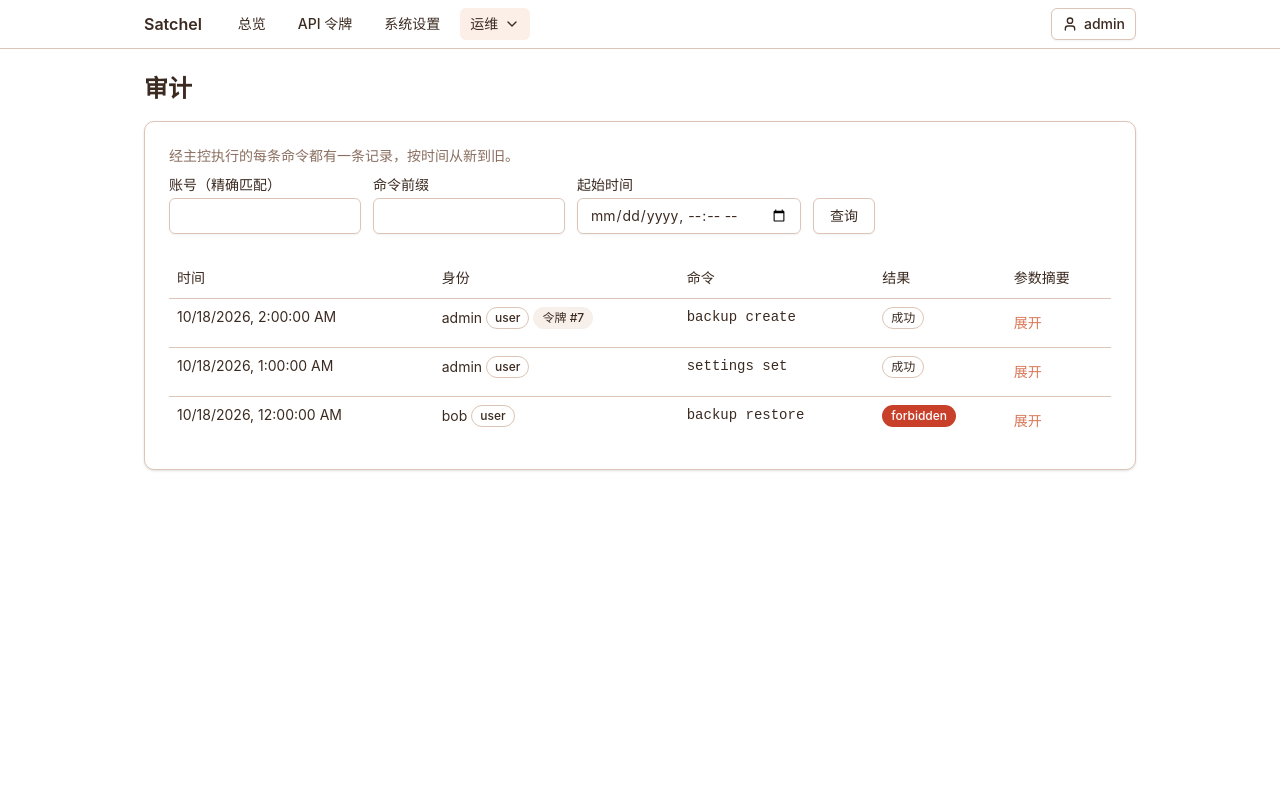
Test case: 审计页 › 参数摘要默认收起，点开显示格式化的 JSON，打码的值照原样是 ***
Expected: the element with test id "audit-2" does not show "telegram_bot_token"
Click the button "展开" in the row of "10/18/2026, 1:00:00 AM" at (1028, 372), box x1=1014 y1=356 x2=1042 y2=388
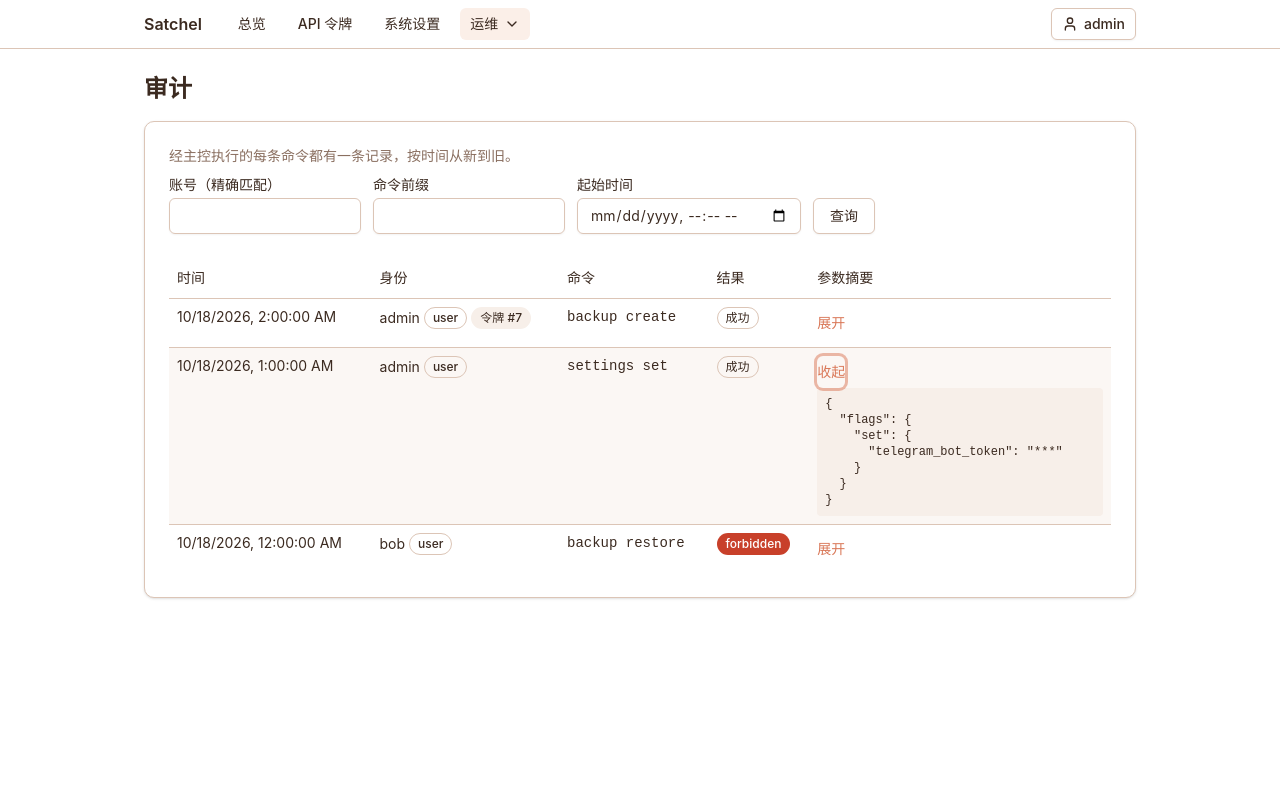
Now the row with test id "audit-2" shows "\"telegram_bot_token\": \"***\"", box x1=825 y1=396 x2=1063 y2=506
